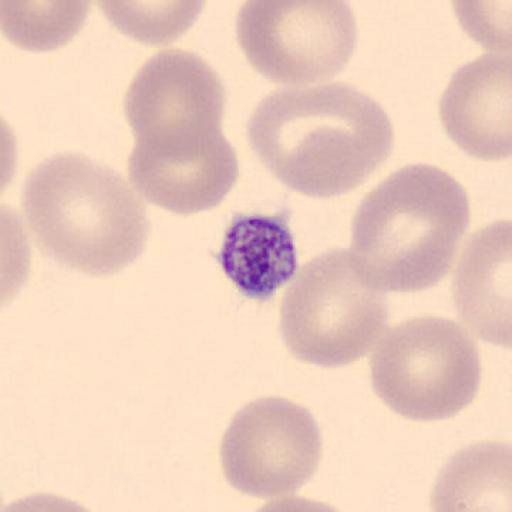Platelet: (210, 208, 302, 303)
RBC: (246, 78, 395, 201), (21, 148, 151, 278), (348, 161, 471, 295), (276, 246, 390, 370), (368, 313, 482, 425), (122, 46, 228, 160), (217, 394, 323, 500), (234, 0, 359, 89), (126, 120, 240, 216), (438, 51, 512, 162), (451, 218, 512, 348), (428, 437, 512, 512), (92, 0, 208, 47), (2, 0, 95, 54), (448, 0, 512, 54), (1, 202, 32, 310), (0, 489, 108, 512), (240, 493, 361, 512), (0, 112, 20, 195)
WBC: (0, 245, 246, 512)
